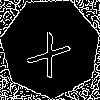X: (25, 23, 79, 80)
